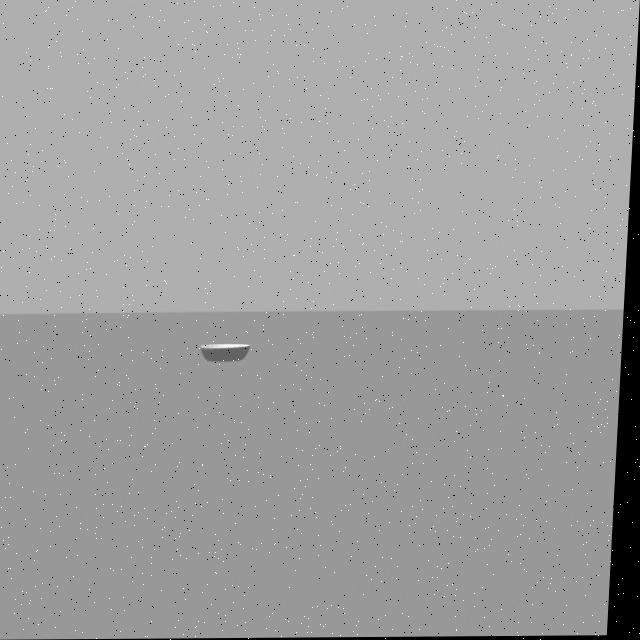bowl: (199, 331, 262, 376)
